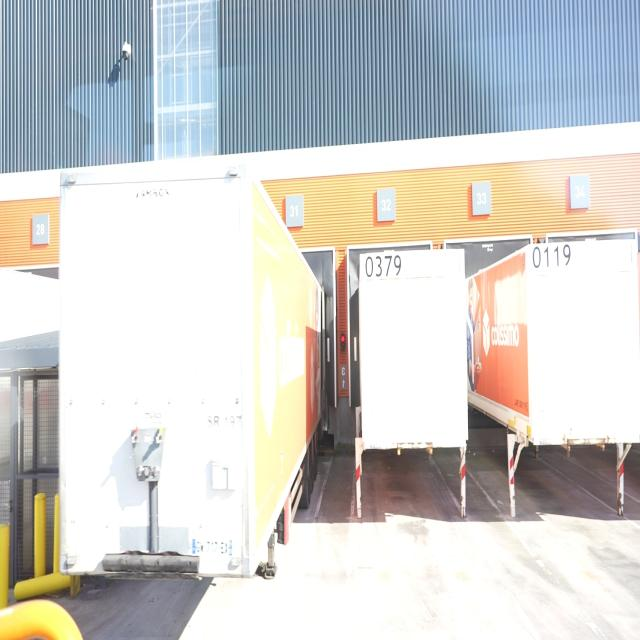Code: (363, 252, 406, 282), (531, 243, 574, 270)
